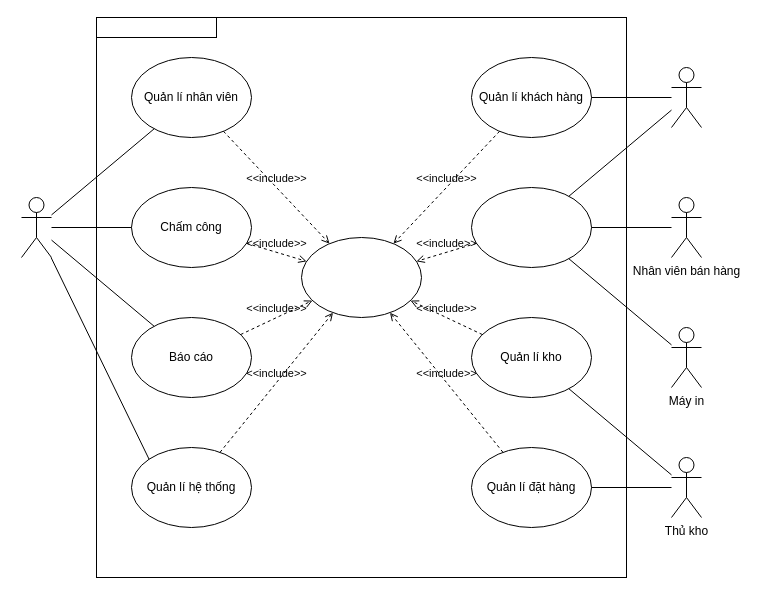
Some shapes in this 757 by 595 pixel diagram are drawn without their labels. The box of each missing label's shape, as (x1, y1, x2, y2) in pixels:
Kế toán: (670, 66, 702, 128)
Quản lí: (20, 196, 52, 258)
Quản lí hoá đơn: (470, 186, 592, 268)
Use Case Diagram: (96, 16, 216, 38)
Đăng nhập: (300, 236, 422, 318)
